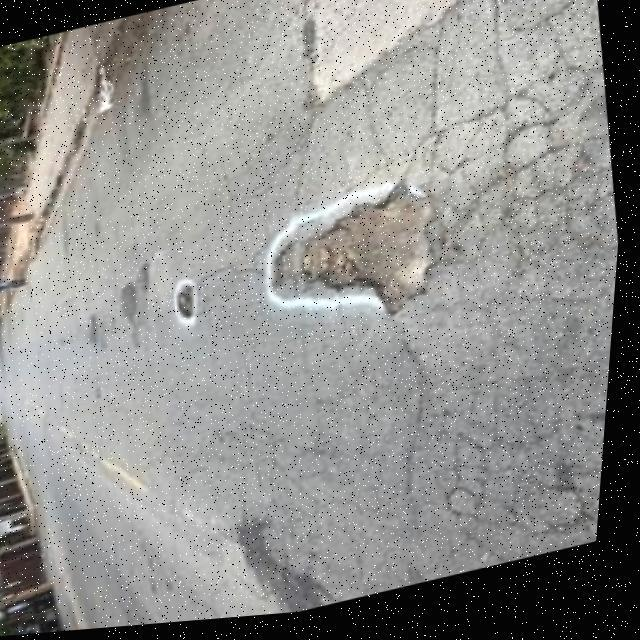pothole: (256, 180, 462, 350), (166, 278, 212, 336)
